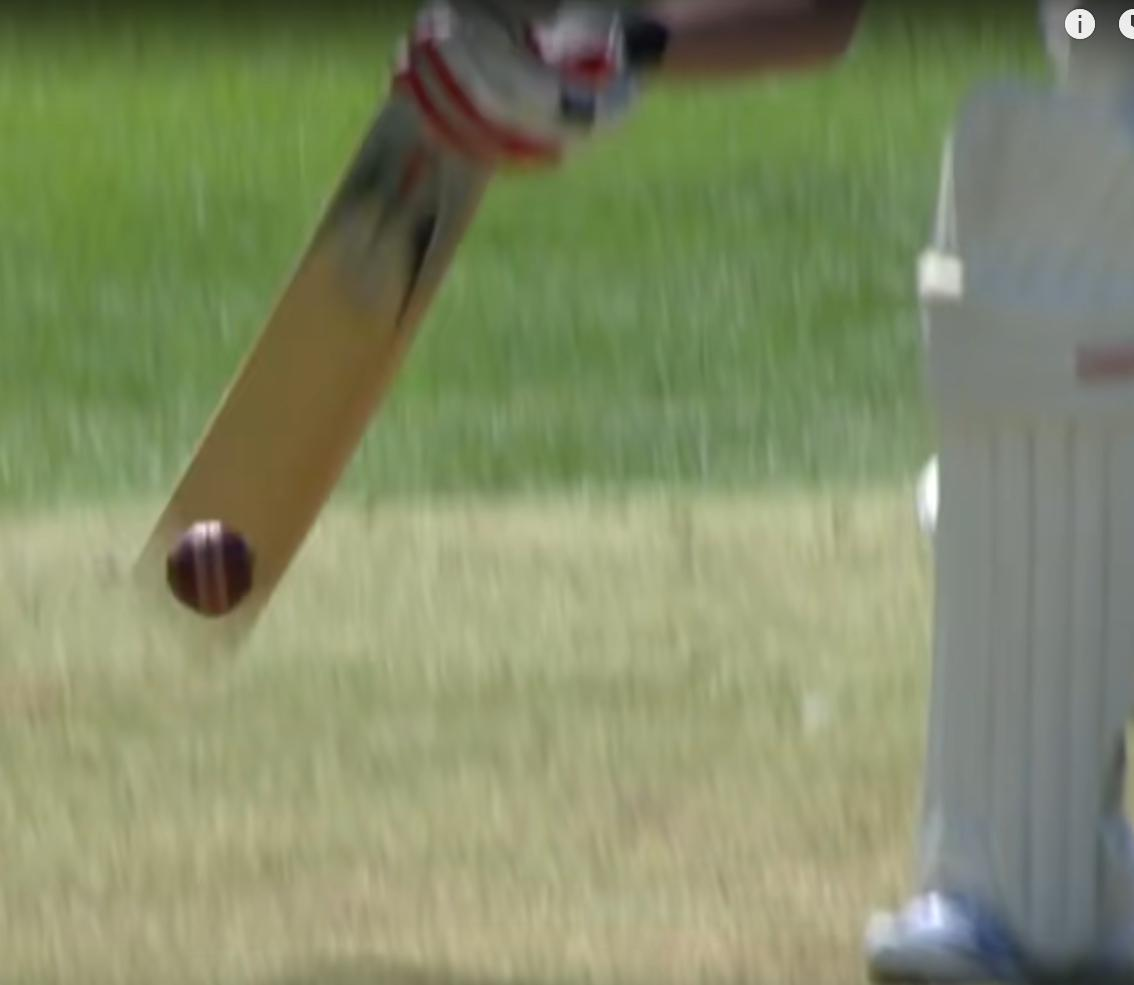Cricket-Ball: (159, 514, 273, 619)
